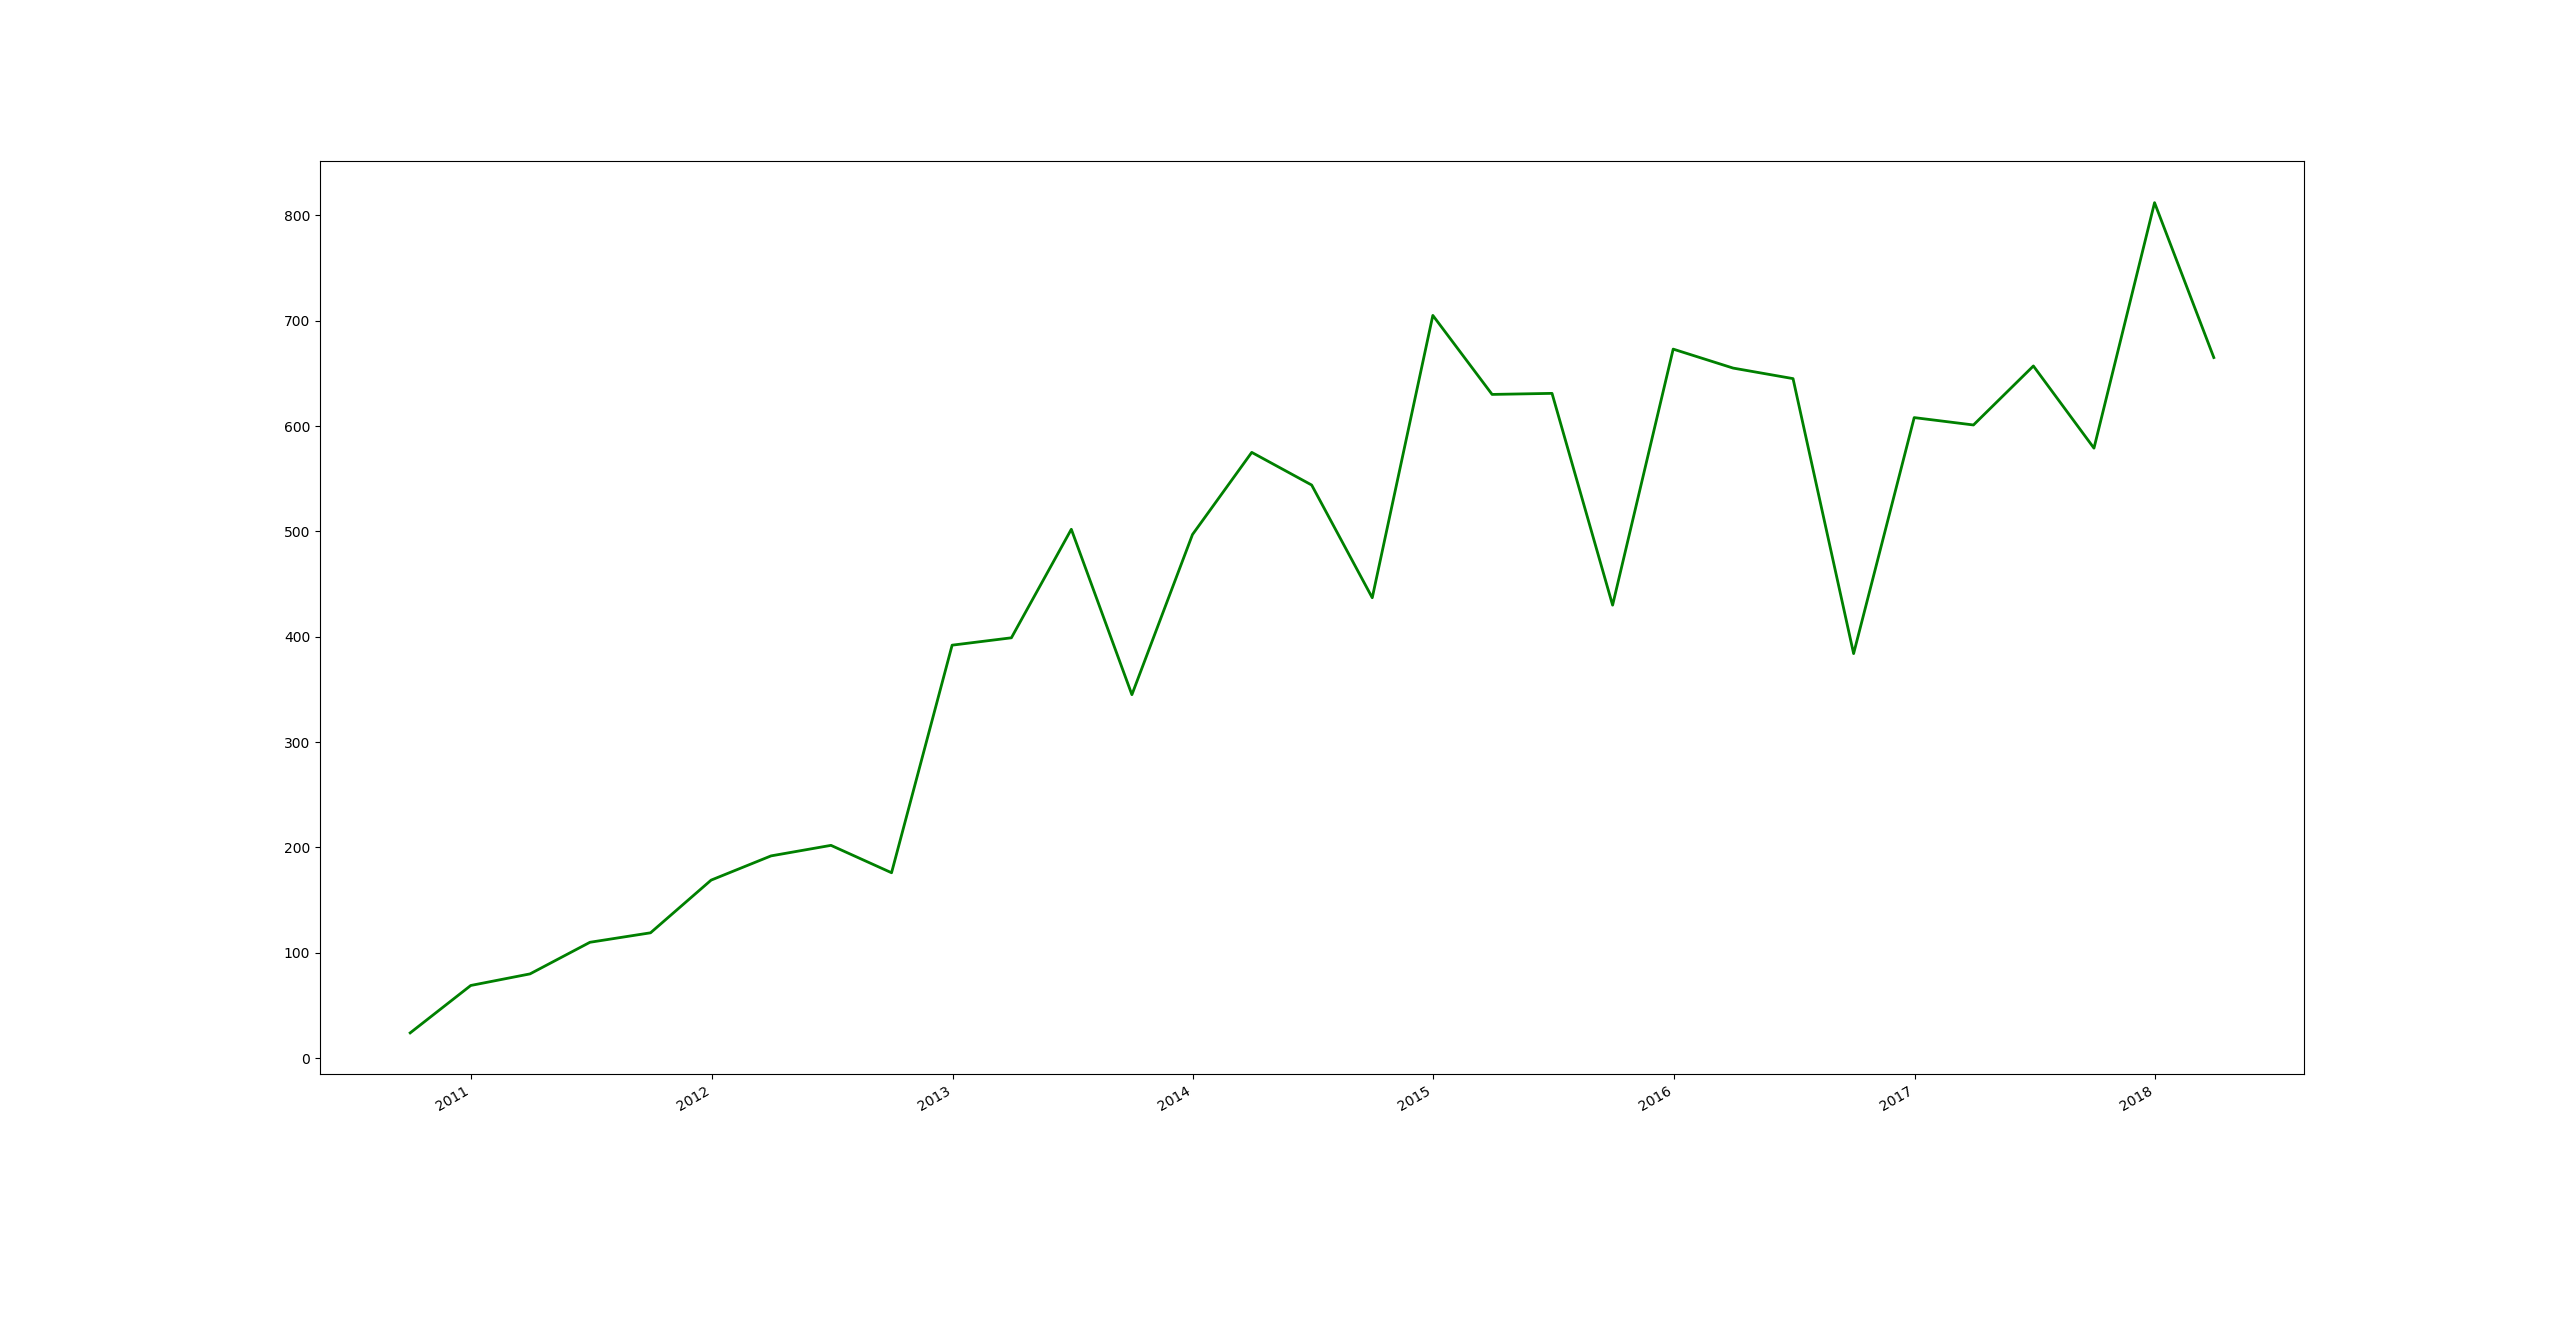

What the dashboard file says about the page in this screenshot:
{"tool":"tableau","page":{"name":"Dashboard 1","canvas":[1000,800],"ordinal":0},"visuals":[{"type":"worksheet","title":"#graphing theory","mark":"Automatic","rows":["Tags"],"cols":["CreationDate"],"box":[8,8,984,784]}]}

Visuals, with their boxes on the page's 1000x800 design canvas (x1, y1, x2, y2). These are canvas units, not pixel positions in the 2560x1343 screenshot, which may show the page scaled, cropped or inside an application window:
"#graphing theory" worksheet: region(8, 8, 992, 792)
